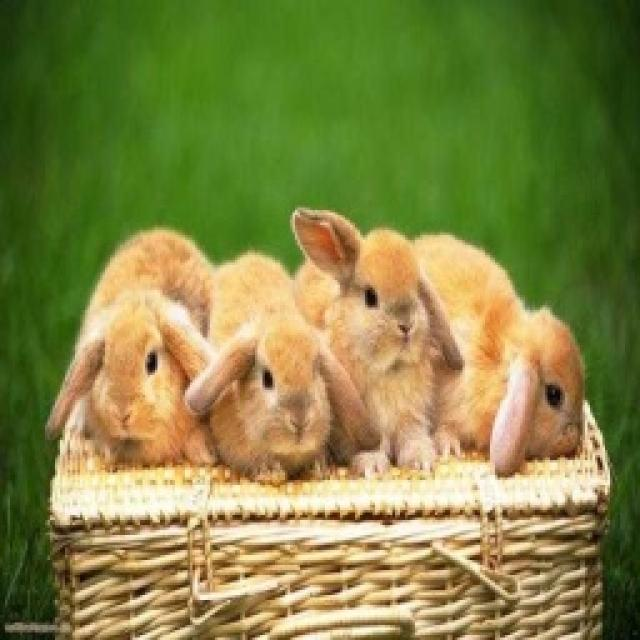not_pig: (290, 205, 463, 477), (180, 250, 378, 478), (413, 226, 587, 474), (42, 225, 218, 470)
